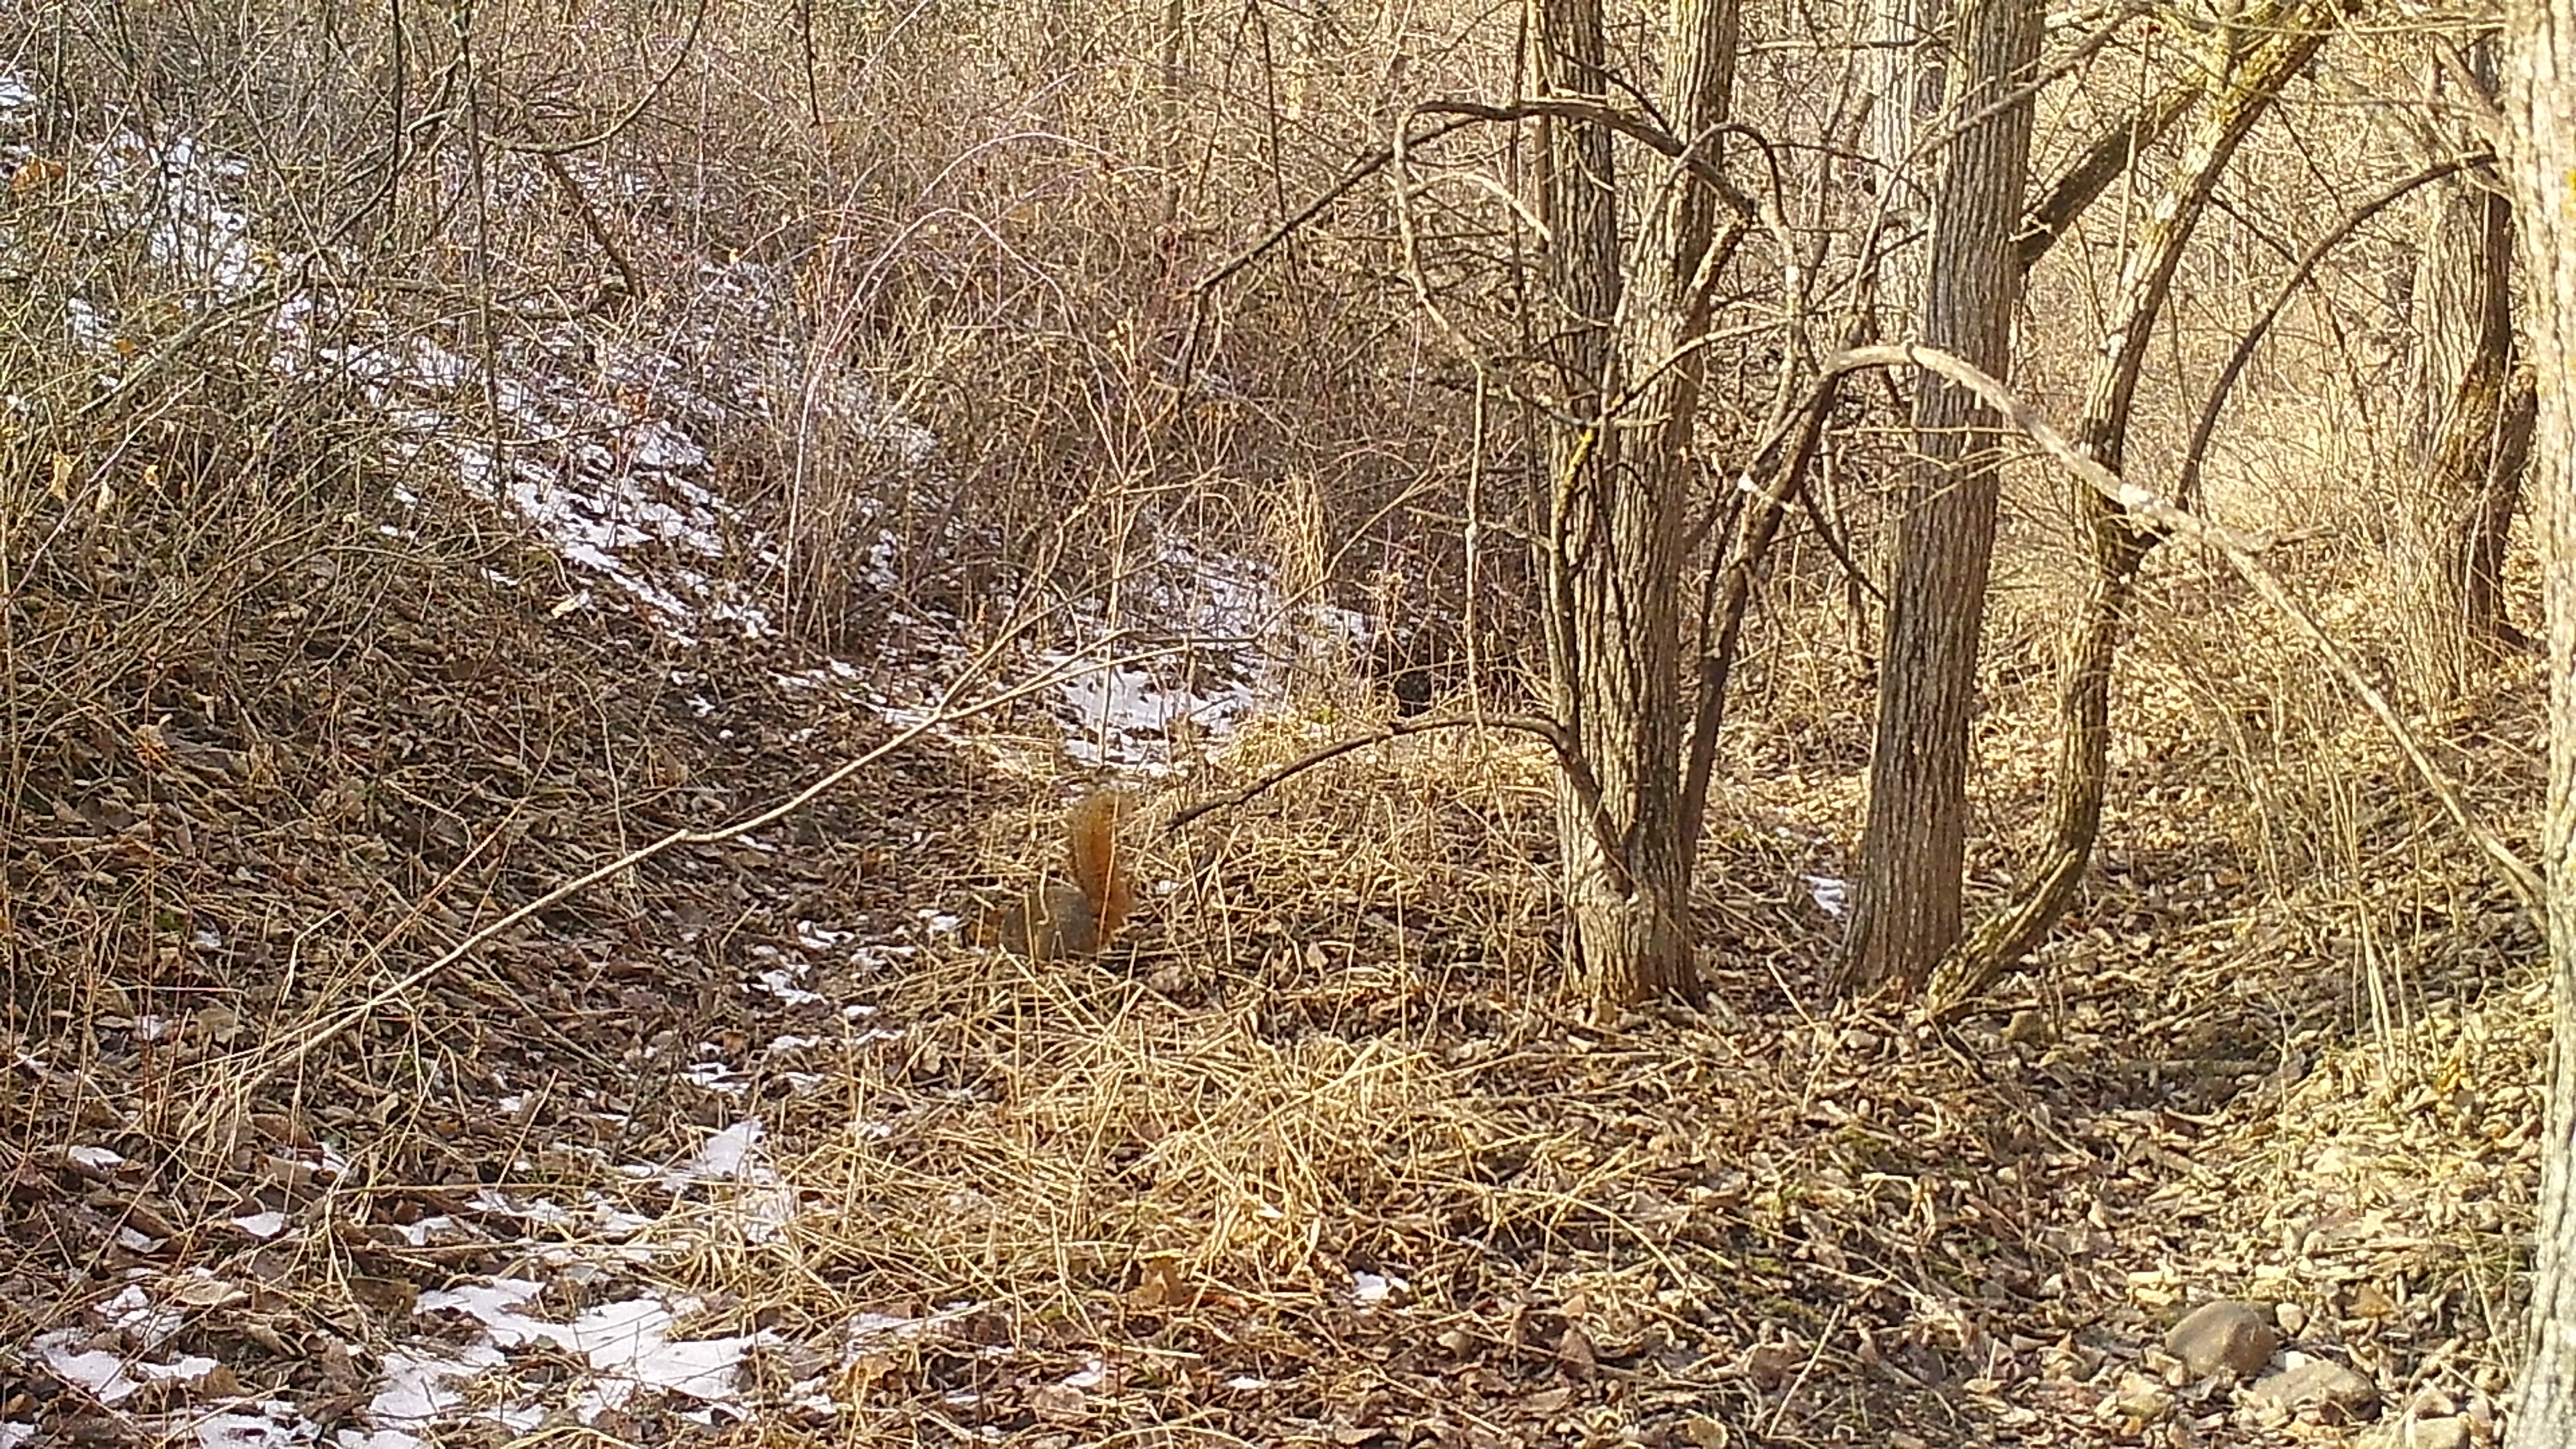Squirrel: (970, 775, 1138, 959)
